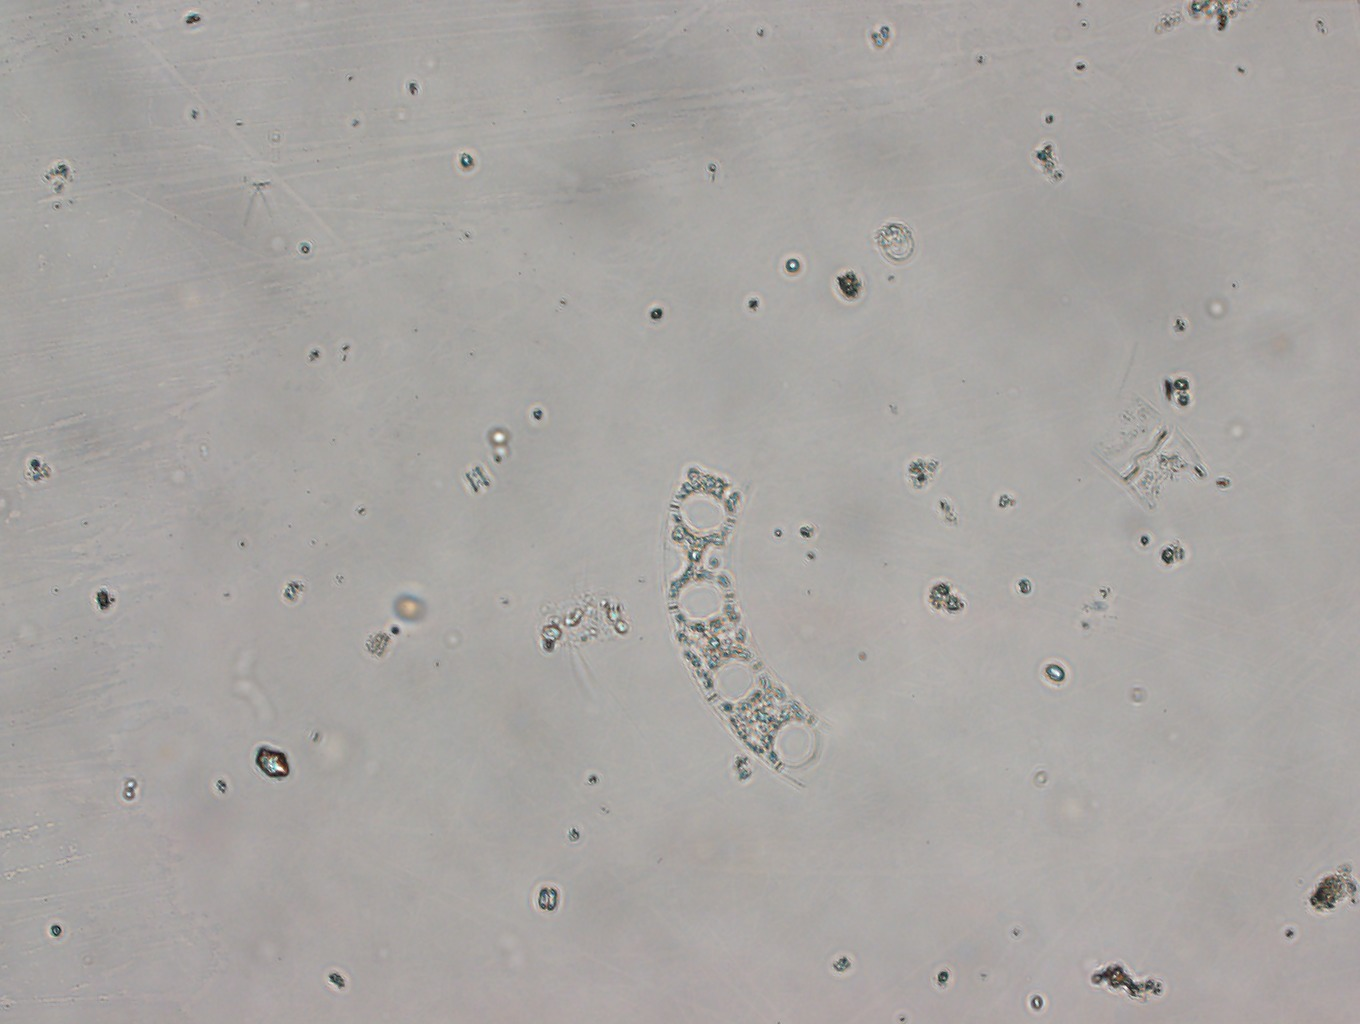eucampia: (663, 463, 831, 786)
